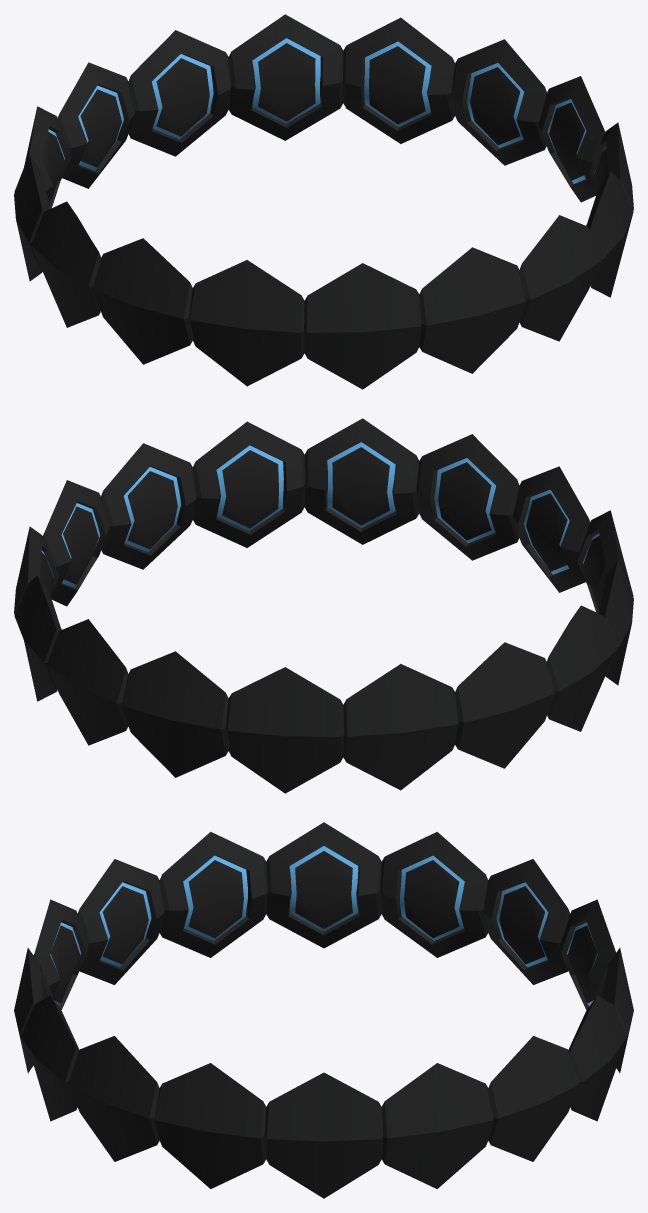
The model's file is obstacle_1_001.fbx.
3 views of the same model, one above another, from view 1: azimuth 30°, elevation 25°; view 2: azimuth 150°, elevation 25°; view 3: azimuth 270°, elevation 25° (orthographic).
Parts seen in each view (by area): view 1: obstacle_1_001; view 2: obstacle_1_001; view 3: obstacle_1_001.
Part boxes in pixels (<box>): obstacle_1_001: <box>14,14,633,389</box>; obstacle_1_001: <box>14,418,633,793</box>; obstacle_1_001: <box>14,822,633,1198</box>.
Bounding box in the file's own units: 3249 × 3249 × 731.
